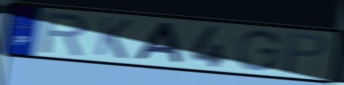4: (188, 24, 227, 69)
A: (133, 20, 185, 65)
G: (236, 29, 282, 72)
K: (93, 15, 134, 61)
P: (282, 32, 329, 75)
R: (39, 10, 90, 57)
